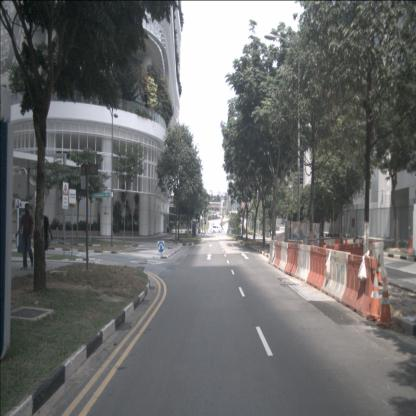human-pedestrian-adult: (15, 203, 34, 270), (37, 209, 53, 268)
movable_object-barrier: (341, 250, 377, 318), (321, 248, 351, 303), (323, 244, 352, 284), (306, 245, 327, 291), (351, 243, 379, 277), (368, 241, 388, 281), (294, 243, 312, 283), (284, 243, 300, 277), (362, 239, 378, 270), (278, 242, 289, 273), (335, 239, 348, 263), (273, 242, 283, 270), (324, 237, 336, 259), (268, 240, 276, 265), (406, 236, 416, 254)
movable_object-trafficcone: (377, 275, 394, 329), (365, 273, 383, 321), (375, 254, 384, 286)
vehicle-car: (212, 225, 222, 233)
